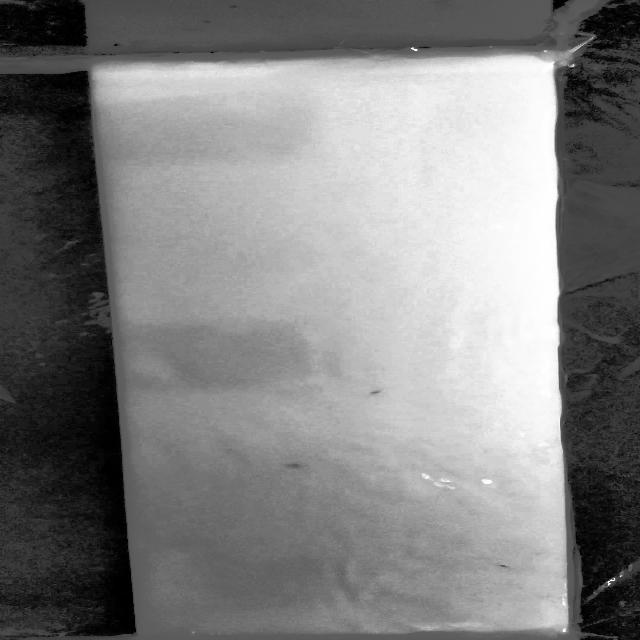shrimp: (358, 386, 388, 403), (284, 458, 309, 476), (490, 562, 521, 572)
